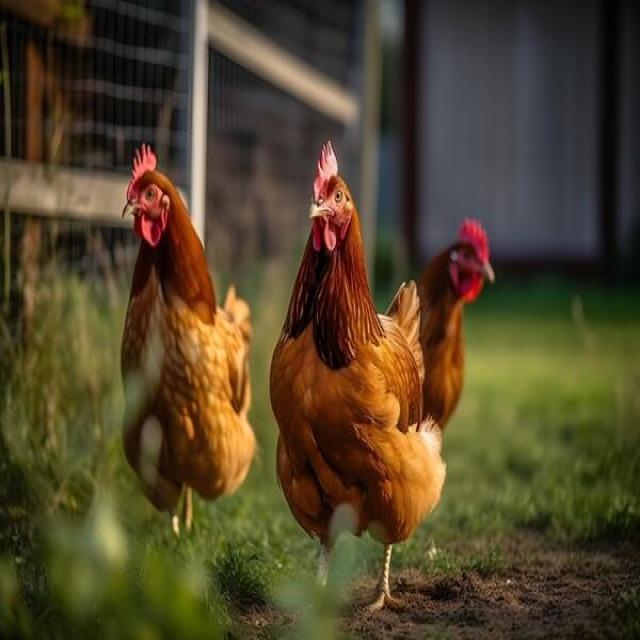Chicken: (267, 130, 415, 630), (95, 133, 262, 562), (403, 210, 504, 447)
